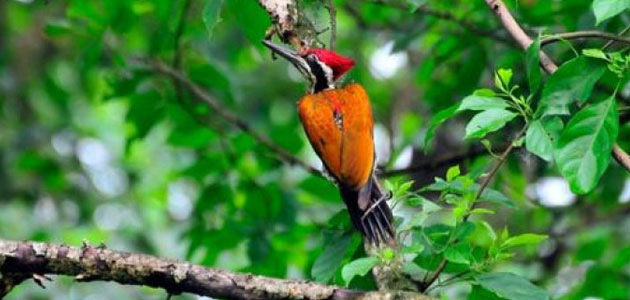bird: (249, 24, 418, 260)
